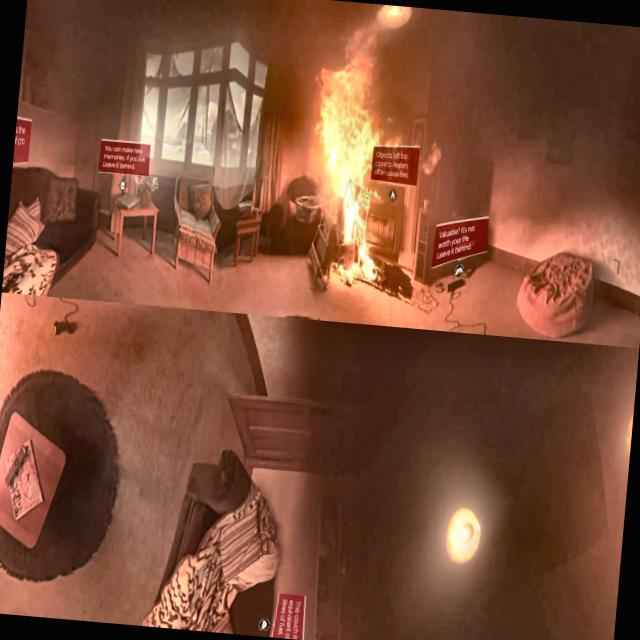fire: (304, 41, 392, 242)
